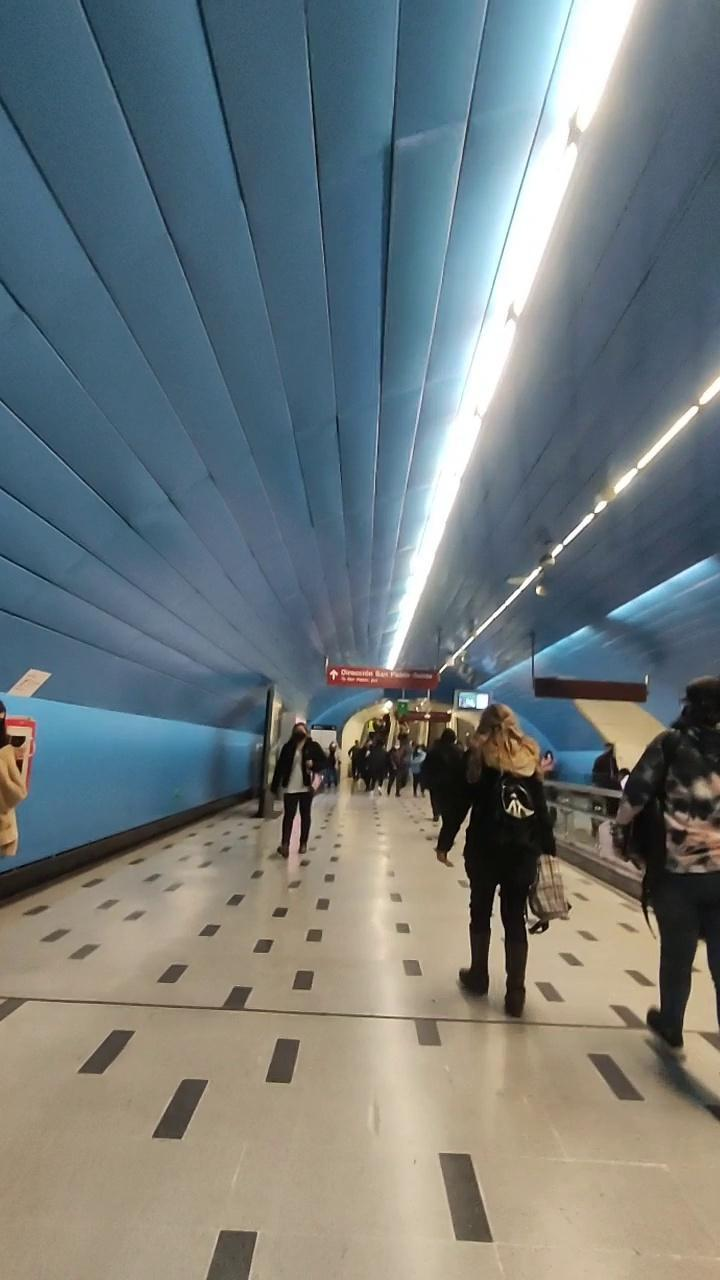up arrow: (328, 668, 339, 683)
